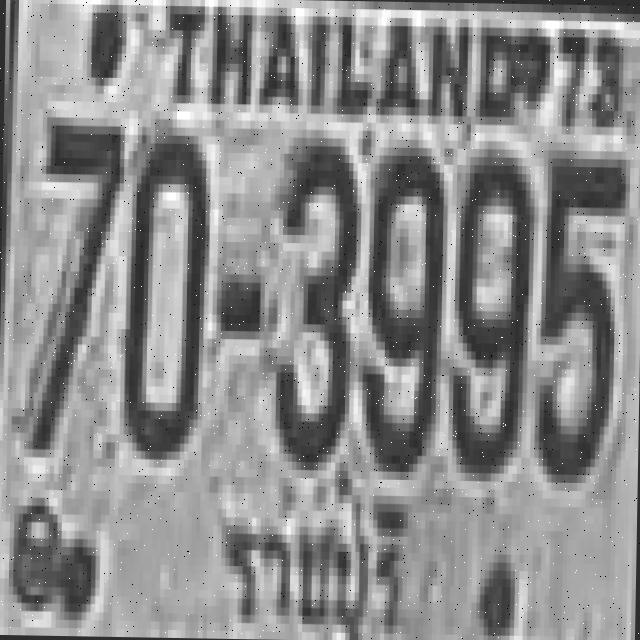0: (118, 126, 206, 451)
3: (268, 129, 356, 462)
5: (534, 150, 622, 475)
7: (28, 112, 120, 446)
9: (358, 138, 442, 464), (447, 144, 531, 470)
Ratchaburi: (215, 496, 412, 640)
